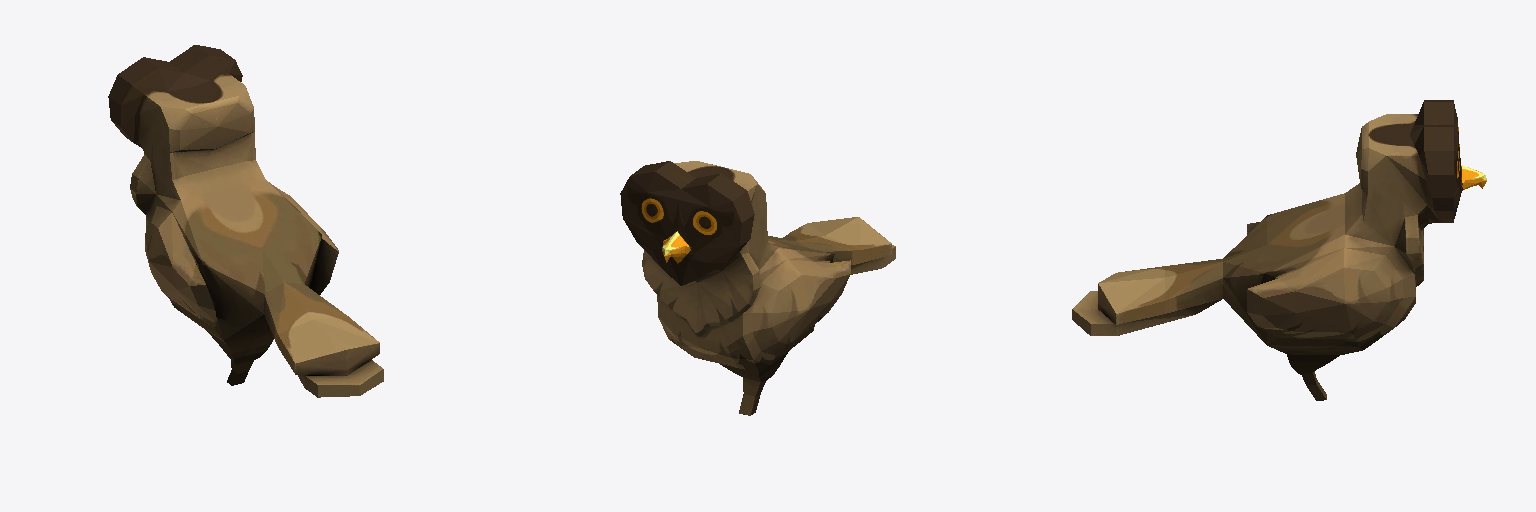
3 views of the same model, side by side, from view 1: azimuth 30°, elevation 25°; view 2: azimuth 150°, elevation 25°; view 3: azimuth 270°, elevation 25° (orthographic).
Visible parts, largest first — view 1: Ani_OWL; view 2: Ani_OWL; view 3: Ani_OWL.
Part boxes in pixels (left/top/right/bottom): Ani_OWL: left=108, top=45, right=383, bottom=397; Ani_OWL: left=620, top=161, right=895, bottom=415; Ani_OWL: left=1072, top=100, right=1486, bottom=400.
Size of the model in its own units: 0.646 by 1.16 by 1.53.
Materials: 1 (1 with a texture image).